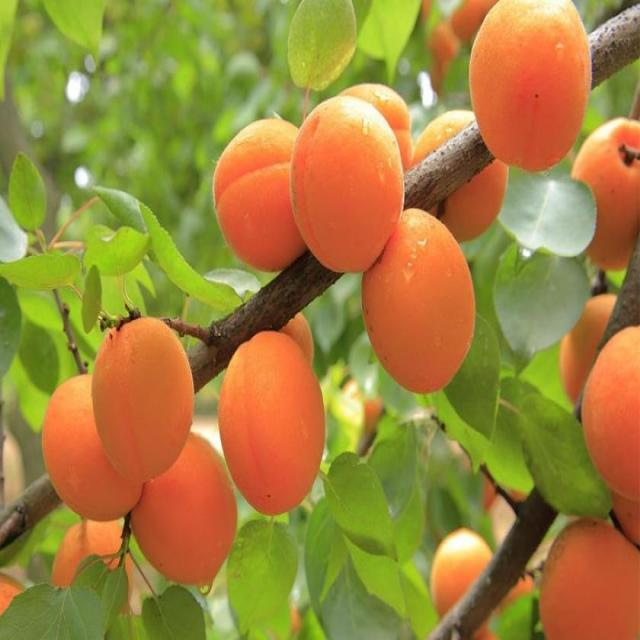kayisi: (214, 84, 493, 508), (33, 337, 212, 549), (554, 342, 640, 629), (470, 11, 588, 142)
kayisi-yapragi: (0, 162, 213, 309), (502, 168, 594, 339)
